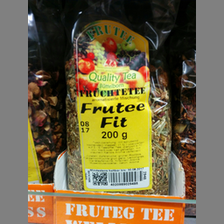tea: (60, 6, 173, 195)
